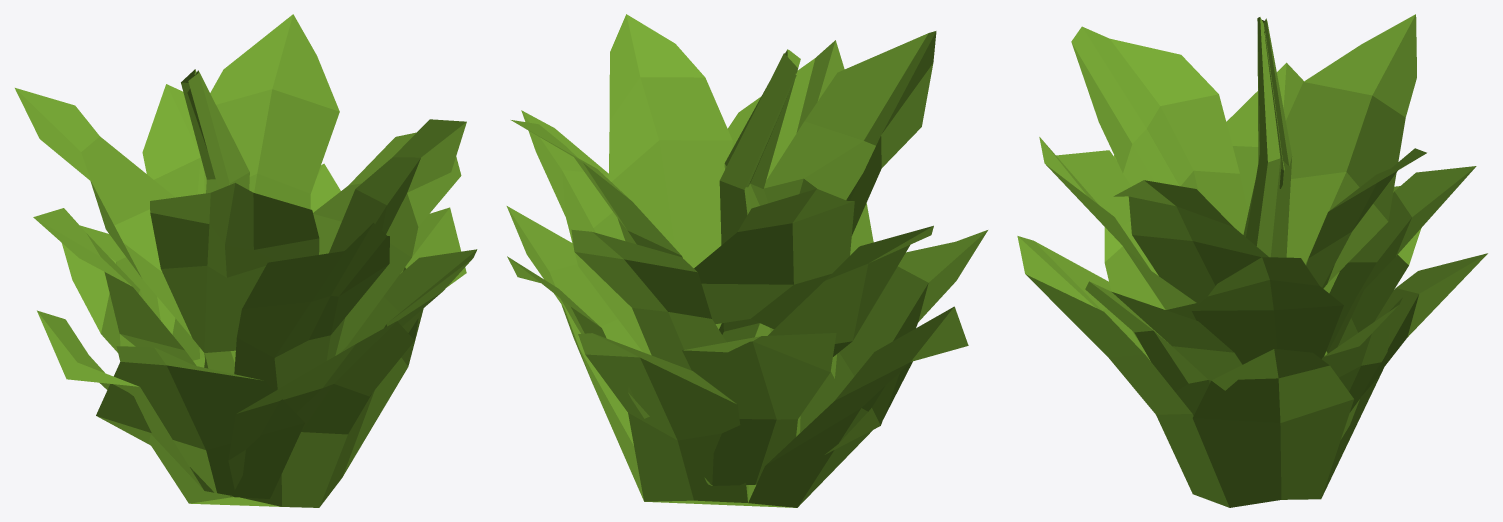
3 renders of one model, left to right at view 1: azimuth 30°, elevation 25°; view 2: azimuth 150°, elevation 25°; view 3: azimuth 270°, elevation 25°, orthographic. The views are drawn at different scales.
Visible parts, largest first — view 1: p2-green; view 2: p2-green; view 3: p2-green.
Boxes of the visible parts, <box> form: p2-green: <box>15,14,477,507</box>; p2-green: <box>506,14,987,507</box>; p2-green: <box>1017,14,1487,507</box>.
Size of the model in its own units: 390 by 387 by 380.
